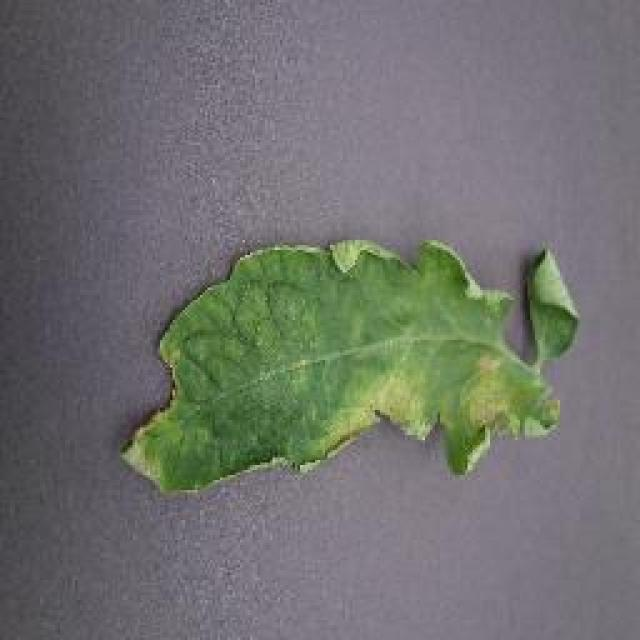Tomato Late Blight: (258, 325, 525, 462)
